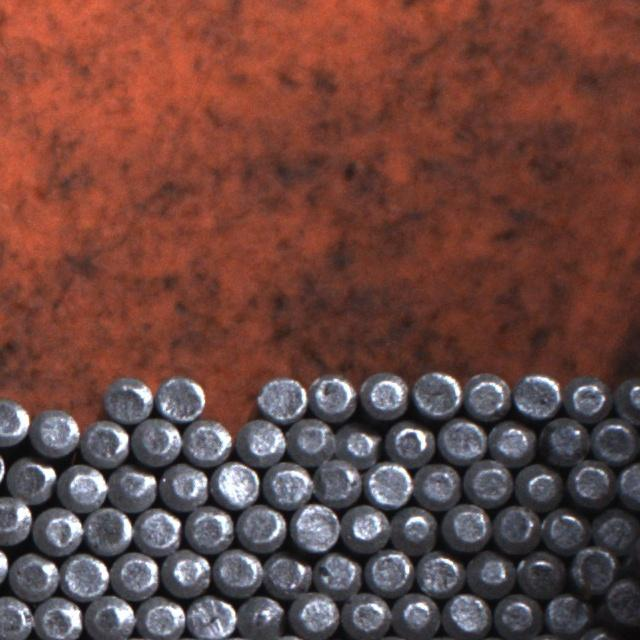tool: (490, 502, 540, 552), (130, 415, 180, 465), (32, 505, 82, 555), (162, 548, 212, 598), (156, 372, 206, 422), (257, 372, 307, 422), (515, 549, 566, 598), (102, 373, 151, 424), (313, 454, 362, 504), (158, 461, 208, 510), (107, 463, 156, 513), (5, 455, 55, 504), (236, 502, 286, 551), (32, 406, 81, 456), (207, 376, 255, 427), (262, 459, 311, 508), (211, 459, 260, 508), (83, 505, 132, 554), (8, 551, 57, 600), (110, 549, 159, 598), (512, 371, 561, 420), (286, 415, 336, 463), (543, 589, 593, 637), (568, 545, 618, 593), (184, 505, 232, 554), (291, 502, 339, 551), (290, 590, 339, 638), (341, 502, 389, 551), (183, 416, 232, 464), (462, 371, 510, 420), (58, 463, 106, 512), (412, 369, 461, 417), (83, 593, 133, 640), (464, 457, 512, 505), (134, 506, 182, 554), (438, 416, 486, 464), (540, 506, 588, 554), (236, 592, 284, 640), (213, 546, 261, 594), (465, 549, 513, 597), (60, 551, 108, 599), (262, 550, 310, 598), (81, 418, 129, 466), (309, 371, 357, 419), (590, 506, 638, 554), (392, 591, 441, 638), (442, 501, 489, 550), (235, 416, 282, 465), (361, 369, 408, 418), (32, 594, 82, 640), (342, 591, 389, 639), (566, 459, 613, 507), (186, 593, 234, 640), (589, 417, 637, 464), (539, 416, 587, 463), (385, 419, 433, 466), (487, 418, 535, 465), (564, 372, 611, 420), (414, 460, 461, 507), (517, 462, 565, 508), (366, 459, 412, 507), (492, 592, 540, 638), (392, 502, 438, 550), (365, 547, 412, 593), (314, 549, 361, 595), (137, 594, 184, 640), (415, 550, 462, 596), (444, 590, 491, 635), (336, 420, 381, 466), (601, 576, 640, 628), (0, 394, 30, 446), (0, 494, 31, 544), (0, 594, 30, 640), (615, 460, 640, 508), (617, 374, 640, 422)
